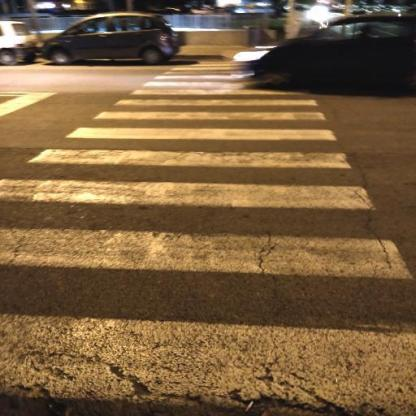crosswalk: (0, 173, 416, 295), (62, 107, 344, 146)
